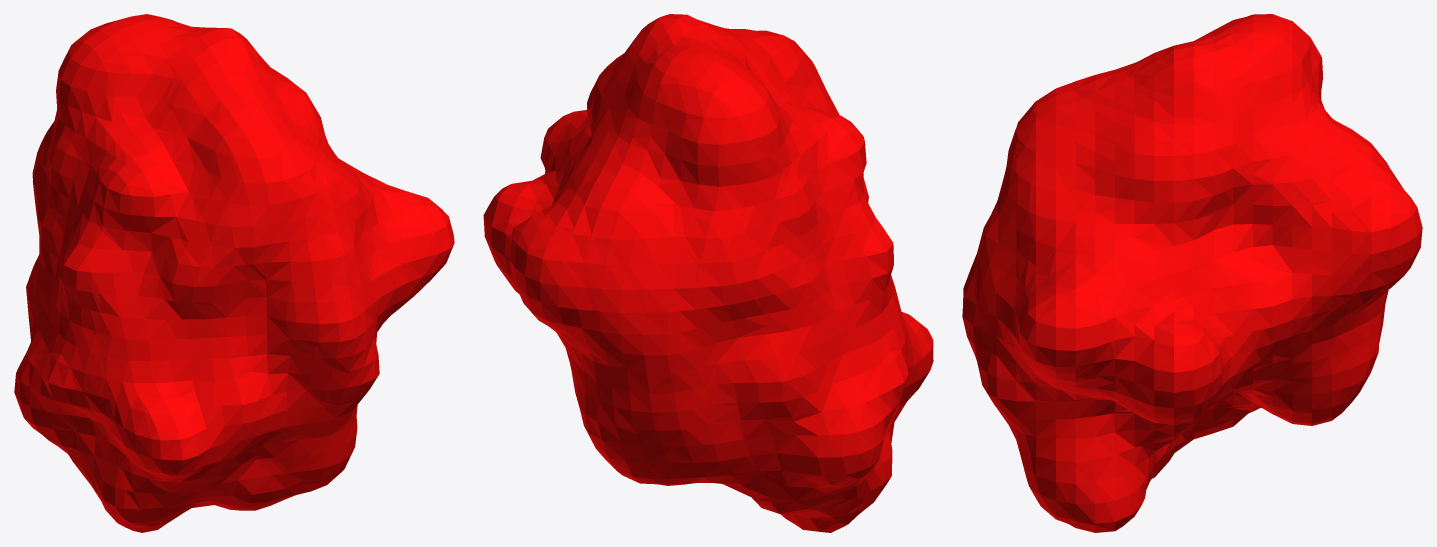
File: lpxC_coarse.dae
The picture shows the model from 3 angles, left to right: view 1: azimuth 30°, elevation 25°; view 2: azimuth 150°, elevation 25°; view 3: azimuth 270°, elevation 25°; orthographic projection. The views are drawn at different scales.
Parts seen in each view (by area): view 1: lpxC; view 2: lpxC; view 3: lpxC.
Boxes of the visible parts, bbox=[...] form: lpxC: bbox=[14, 14, 454, 532]; lpxC: bbox=[483, 14, 933, 532]; lpxC: bbox=[962, 14, 1422, 532].
Bounding box in the file's own units: 52.08 × 62.06 × 53.25.
